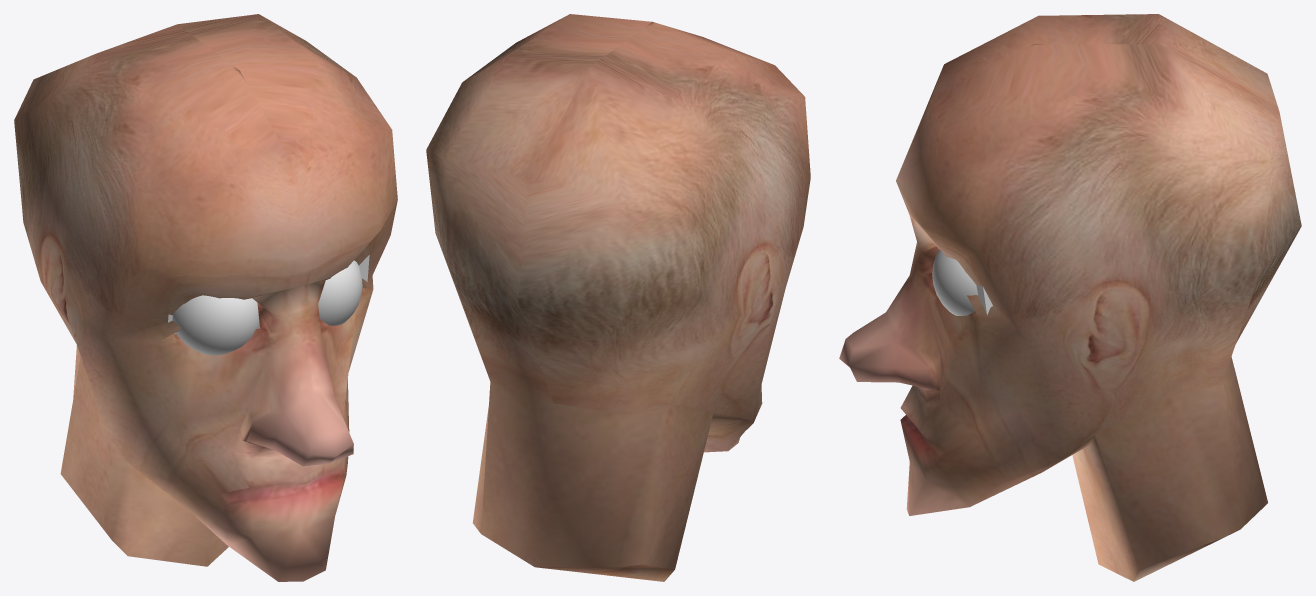
Rendered from Teacher.fbx.
The picture shows the model from 3 angles, left to right: view 1: azimuth 30°, elevation 25°; view 2: azimuth 150°, elevation 25°; view 3: azimuth 270°, elevation 25°; orthographic projection.
Parts seen in each view (by area): view 1: Cube, Sphere.001, Sphere; view 2: Cube; view 3: Cube, Sphere.
Boxes of the visible parts, x1=… form: Cube: x1=14, y1=14, x2=397, y2=581; Sphere.001: x1=172, y1=295, x2=259, y2=355; Sphere: x1=318, y1=260, x2=362, y2=325; Cube: x1=426, y1=14, x2=810, y2=581; Cube: x1=839, y1=14, x2=1301, y2=581; Sphere: x1=932, y1=249, x2=977, y2=315.
Bounding box in the file's own units: 187 × 311 × 250.
